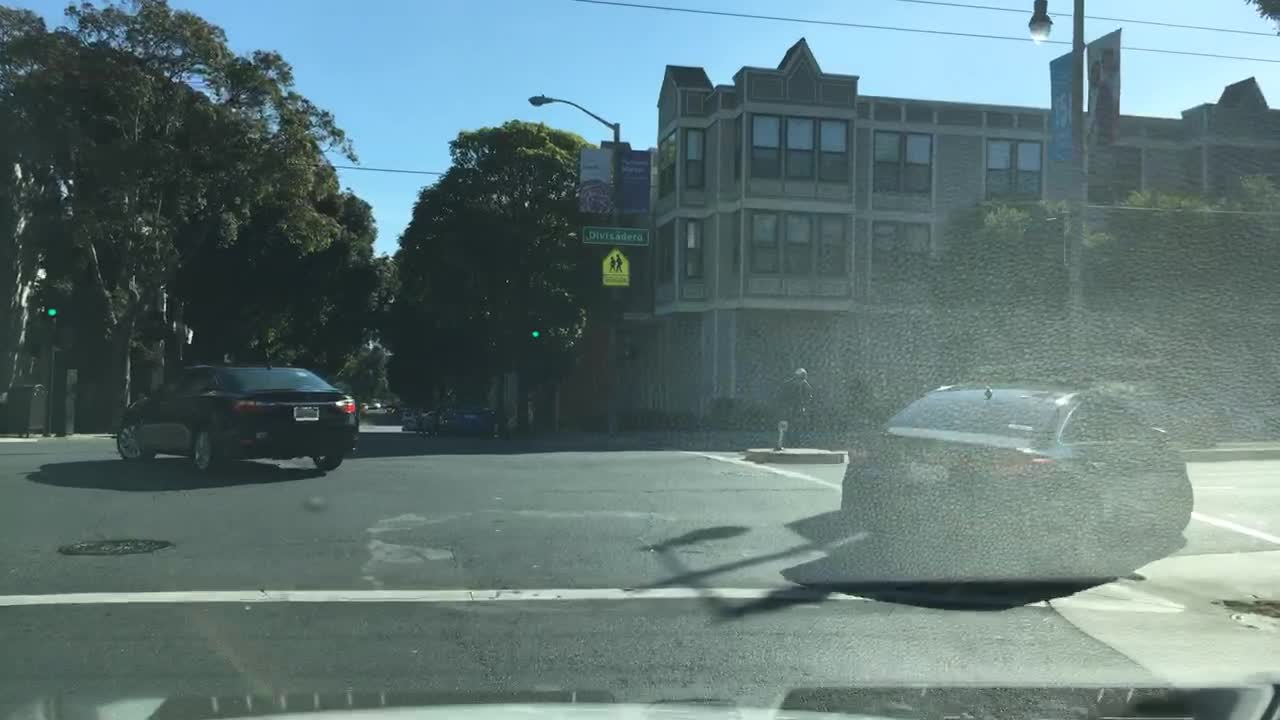car: (839, 382, 1191, 579), (115, 363, 360, 473), (439, 409, 491, 431), (403, 410, 436, 429), (355, 398, 366, 416), (367, 395, 379, 409), (385, 406, 397, 418)
person: (780, 367, 812, 452)
traffic light: (44, 300, 57, 326), (532, 329, 541, 343)
traffic sign: (602, 252, 628, 288), (585, 227, 644, 240)
